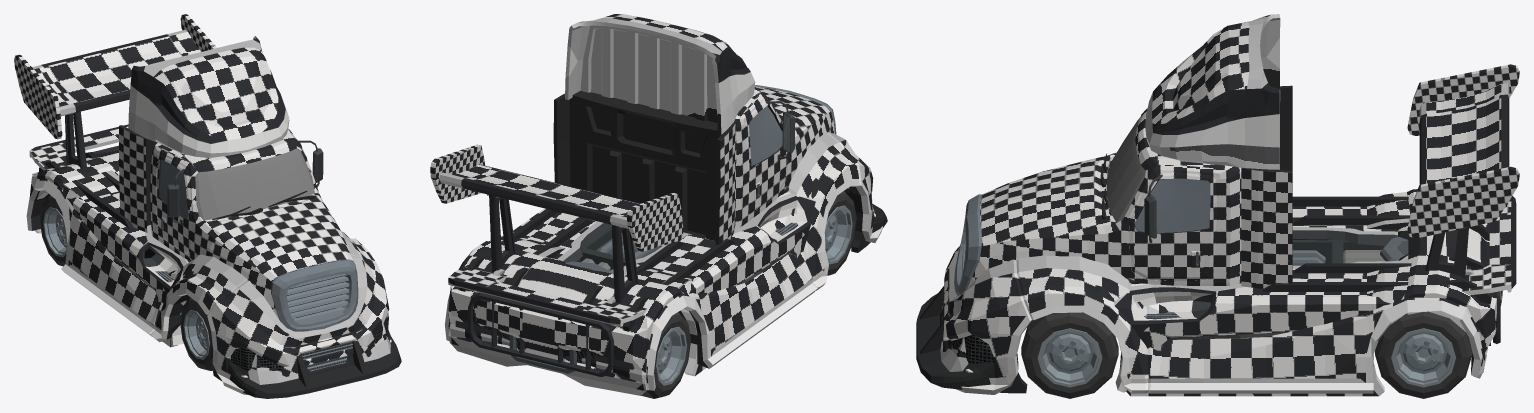
File: redline_pro_truck.glb
3 views of the same model, side by side, from view 1: azimuth 30°, elevation 25°; view 2: azimuth 150°, elevation 25°; view 3: azimuth 270°, elevation 25° (orthographic). The views are drawn at different scales.
Visible parts, largest first — view 1: Body, V_Fairing_Top_01, V_Front_Bumper_02, V_Spoiler_03, V_Side_Skirts_02, V_Side_Skirts_03, V_Front_Bumper_03, V_Front_Fender_01, V_Fairing_Back_01, Door_R, V_Rear_Bumper_03, Wheel_FR_Stock (+3 smaller); view 2: V_Fairing_Back_01, V_Rear_Bumper_03, V_Fairing_Top_01, V_Spoiler_03, V_Side_Skirts_03, V_Side_Skirts_02, Body, V_Front_Fender_01, V_Spoiler_01, Door_R, V_Rear_Bumper_02, Wheel_RR_Stock (+3 smaller); view 3: Body, V_Side_Skirts_03, V_Side_Skirts_02, V_Spoiler_03, V_Fairing_Top_01, Door_L, V_Front_Bumper_02, V_Front_Fender_01, V_Fairing_Back_01, Wheel_FL_Stock, Wheel_RL_Stock, V_Rear_Bumper_03 (+2 smaller).
Boxes of the visible parts, x1=… form: Body: x1=150, y1=128, x2=358, y2=331; V_Fairing_Top_01: x1=128, y1=36, x2=289, y2=157; V_Front_Bumper_02: x1=207, y1=255, x2=391, y2=394; V_Spoiler_03: x1=14, y1=14, x2=216, y2=169; V_Side_Skirts_02: x1=26, y1=170, x2=177, y2=336; V_Side_Skirts_03: x1=67, y1=171, x2=188, y2=347; V_Front_Bumper_03: x1=213, y1=324, x2=401, y2=398; V_Front_Fender_01: x1=151, y1=231, x2=376, y2=342; V_Fairing_Back_01: x1=119, y1=125, x2=157, y2=232; Door_R: x1=156, y1=154, x2=192, y2=255; V_Rear_Bumper_03: x1=29, y1=149, x2=119, y2=233; Wheel_FR_Stock: x1=180, y1=298, x2=214, y2=370; V_Fairing_Back_01: x1=553, y1=91, x2=736, y2=244; V_Rear_Bumper_03: x1=448, y1=241, x2=683, y2=395; V_Fairing_Top_01: x1=565, y1=14, x2=755, y2=136; V_Spoiler_03: x1=430, y1=144, x2=683, y2=302; V_Side_Skirts_03: x1=501, y1=192, x2=815, y2=376; V_Side_Skirts_02: x1=445, y1=214, x2=817, y2=390; Body: x1=565, y1=85, x2=836, y2=273; V_Front_Fender_01: x1=784, y1=133, x2=859, y2=290; V_Spoiler_01: x1=448, y1=265, x2=646, y2=326; Door_R: x1=745, y1=99, x2=787, y2=214; V_Rear_Bumper_02: x1=468, y1=292, x2=614, y2=376; Wheel_RR_Stock: x1=641, y1=312, x2=690, y2=398; Body: x1=954, y1=101, x2=1408, y2=321; V_Side_Skirts_03: x1=1114, y1=196, x2=1411, y2=396; V_Side_Skirts_02: x1=1146, y1=192, x2=1490, y2=393; V_Spoiler_03: x1=1407, y1=64, x2=1519, y2=278; V_Fairing_Top_01: x1=1145, y1=14, x2=1280, y2=169; Door_L: x1=1129, y1=172, x2=1217, y2=280; V_Front_Bumper_02: x1=941, y1=246, x2=1032, y2=394; V_Front_Fender_01: x1=1016, y1=255, x2=1147, y2=393; V_Fairing_Back_01: x1=1241, y1=85, x2=1292, y2=288; Wheel_FL_Stock: x1=1021, y1=312, x2=1118, y2=398; Wheel_RL_Stock: x1=1375, y1=311, x2=1472, y2=398; V_Rear_Bumper_03: x1=1398, y1=189, x2=1502, y2=378.
Bounding box in the file's own units: 2.18 × 2.62 × 4.66.
Materials: 2 (2 with a texture image).
